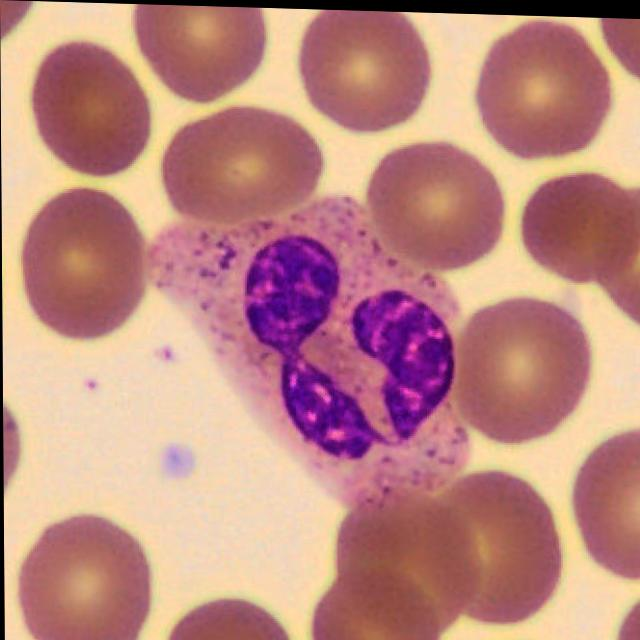Neutrofilo segmentado: (148, 195, 469, 511)
